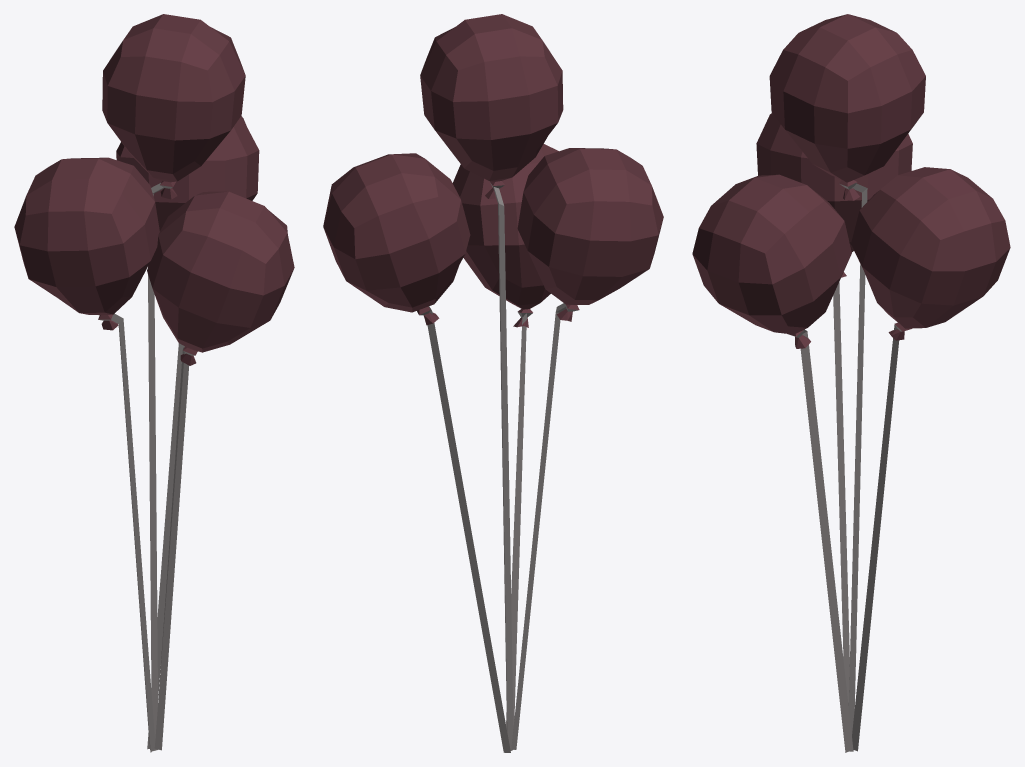
File: balloons-bunch.fbx
3 views of the same model, side by side, from view 1: azimuth 30°, elevation 25°; view 2: azimuth 150°, elevation 25°; view 3: azimuth 270°, elevation 25° (orthographic).
Visible parts, largest first — view 1: balloons-bunch; view 2: balloons-bunch; view 3: balloons-bunch.
Part boxes in pixels (<box>): balloons-bunch: <box>14,14,294,752</box>; balloons-bunch: <box>323,14,663,752</box>; balloons-bunch: <box>692,14,1010,752</box>.
Size of the model in its own units: 0.8608 by 2.1 by 0.8232.
